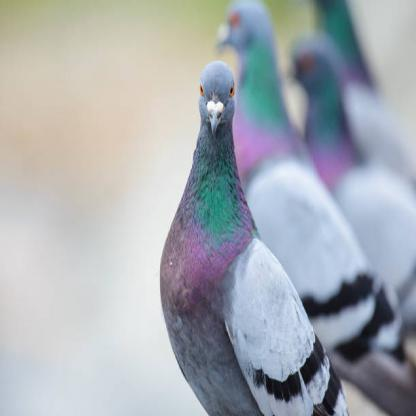Rock Pigeon: (217, 4, 416, 362), (157, 60, 346, 416)
